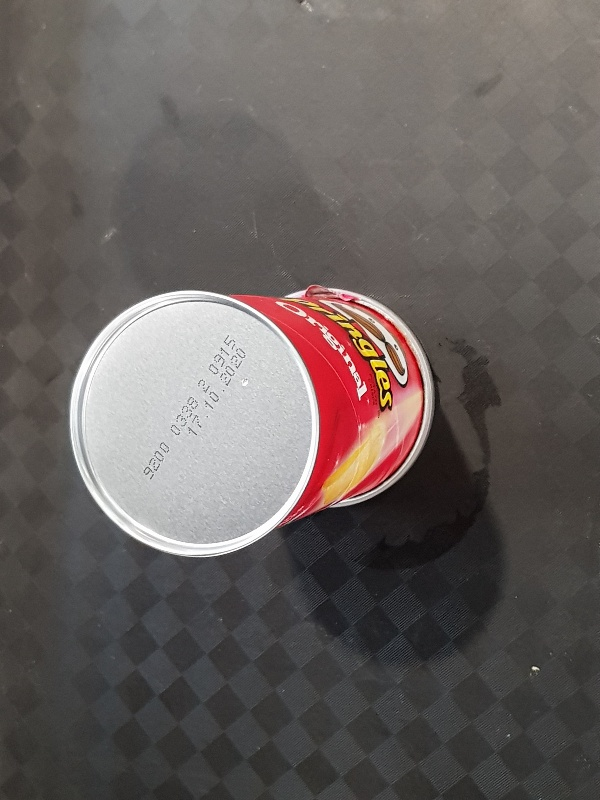Pringles Original: (66, 284, 434, 560)
